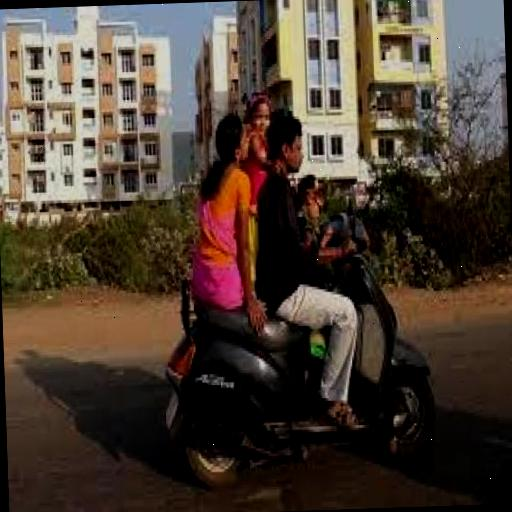no helmet: (260, 100, 308, 180)
triple riding: (150, 88, 440, 486)
